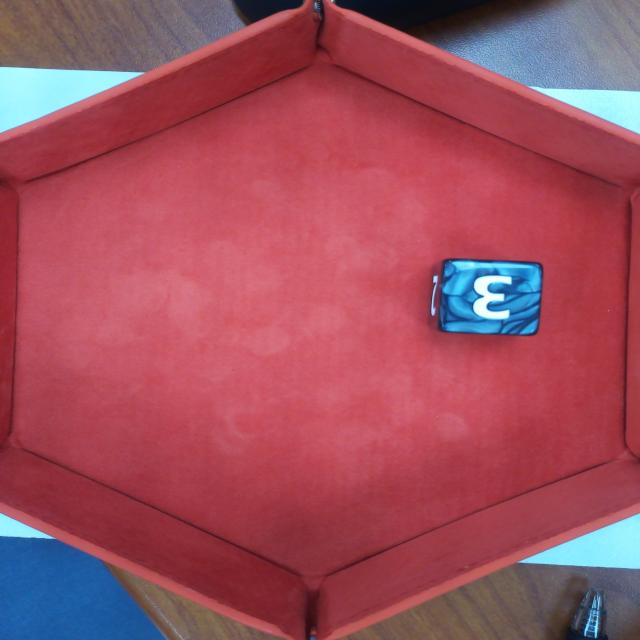dice: (441, 260, 542, 335)
